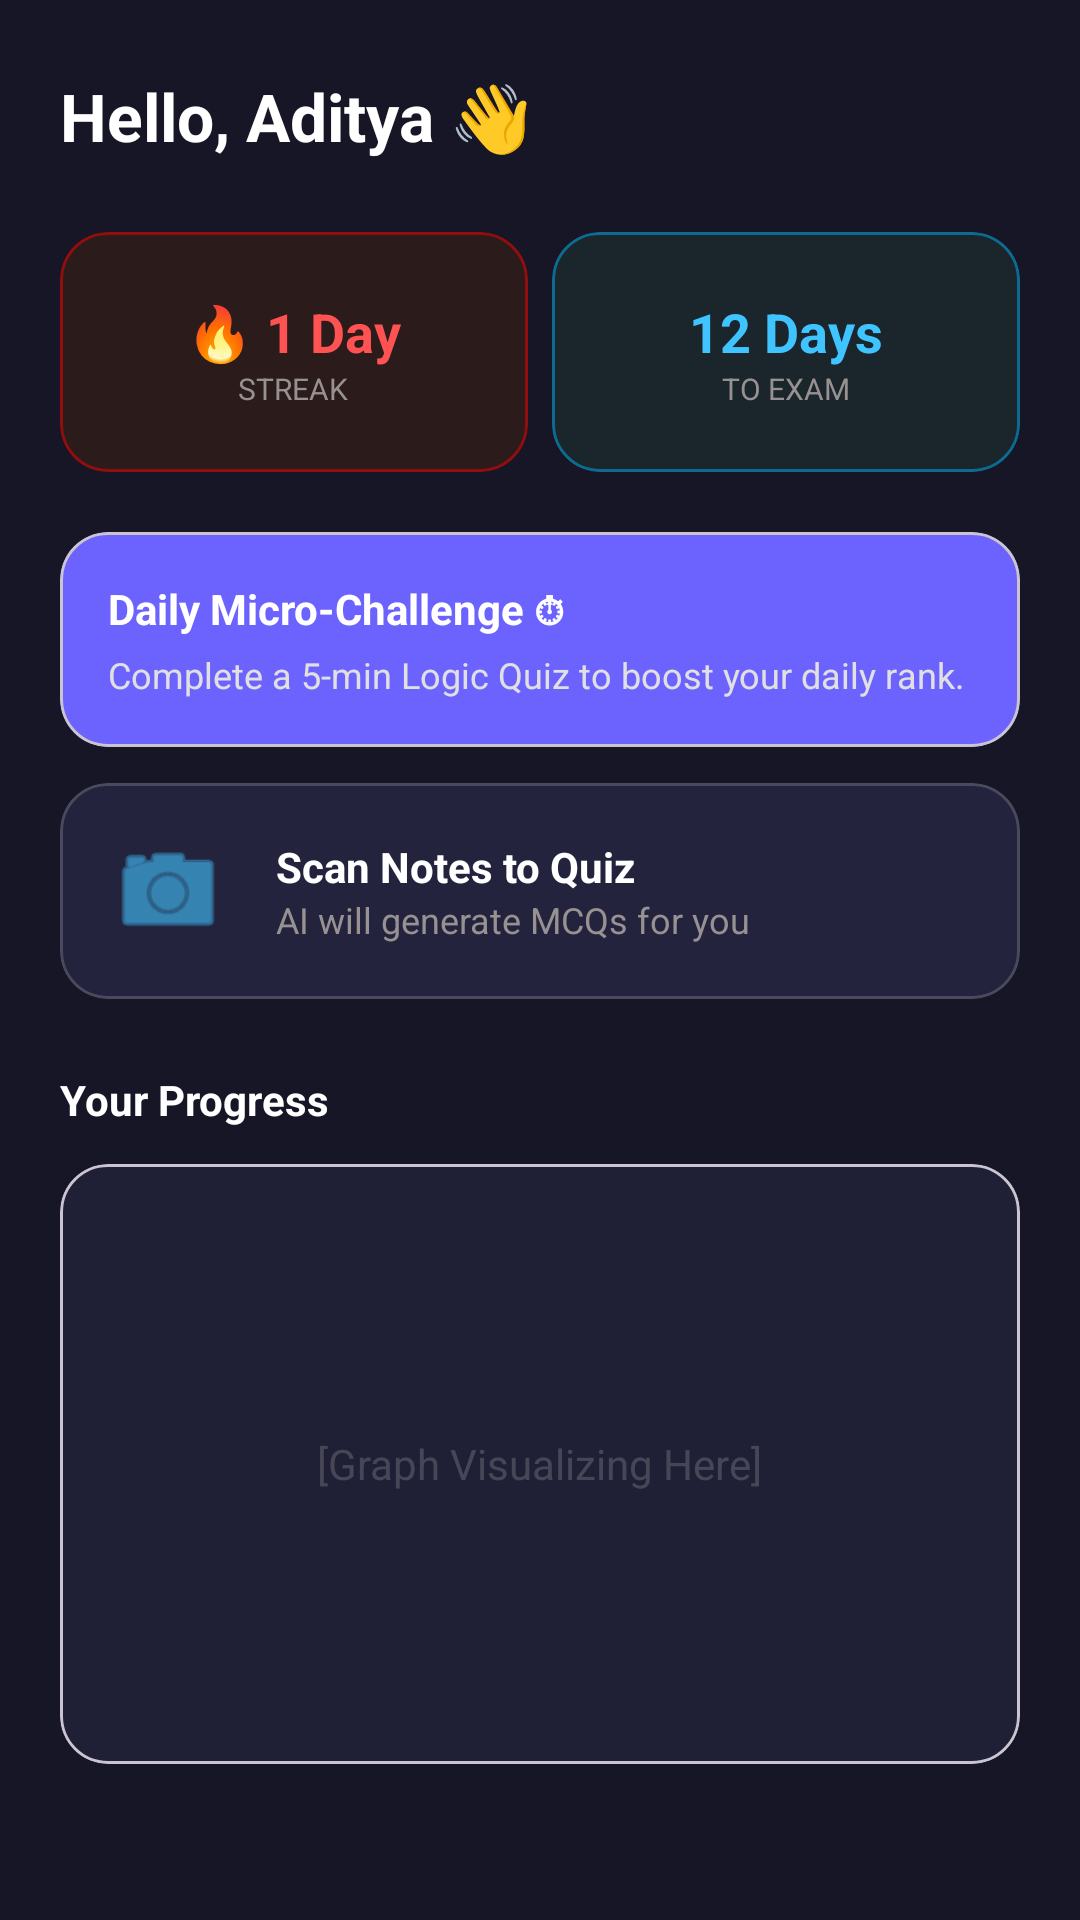

Point at icon controls on the screen. Image size 1080*1920, points as (x,y).
camera: (168,889)
